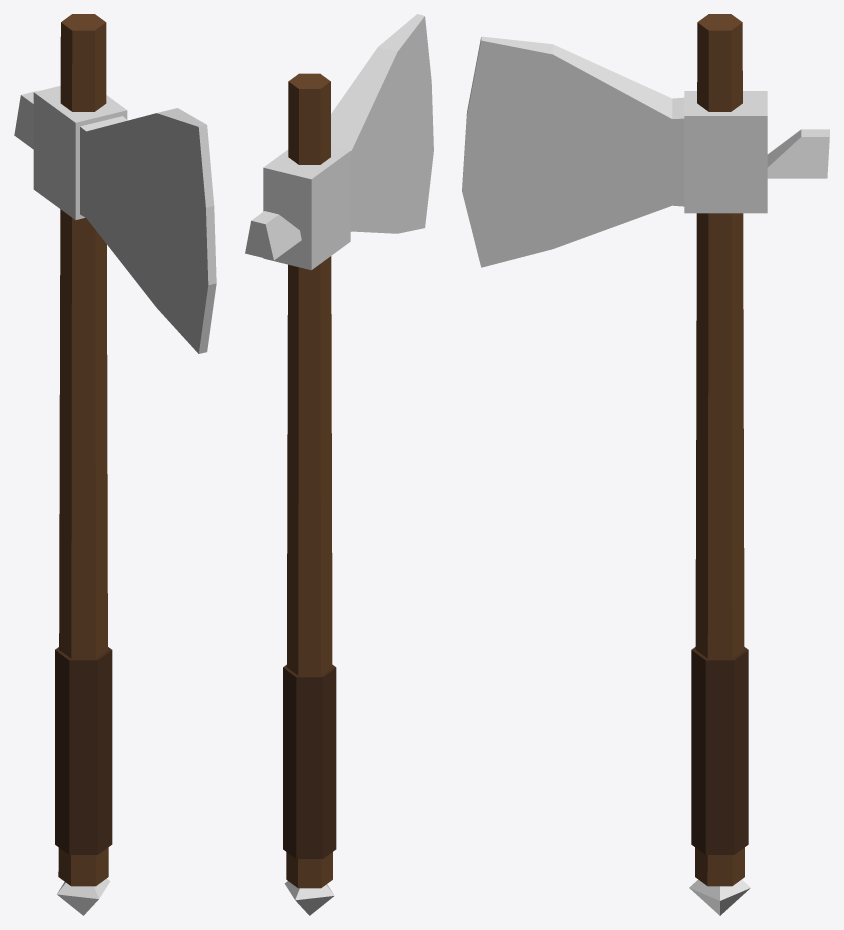
Rendered from weapon_axe.glb.
3 views of the same model, side by side, from view 1: azimuth 30°, elevation 25°; view 2: azimuth 150°, elevation 25°; view 3: azimuth 270°, elevation 25° (orthographic). The views are drawn at different scales.
Visible parts, largest first — view 1: weapon_axe; view 2: weapon_axe; view 3: weapon_axe.
Boxes of the visible parts, x1,y1,x2,y2 form: weapon_axe: (14,14,216,915); weapon_axe: (245,14,433,915); weapon_axe: (462,14,829,915).
Bounding box in the file's own units: 0.052 × 0.826 × 0.308.
